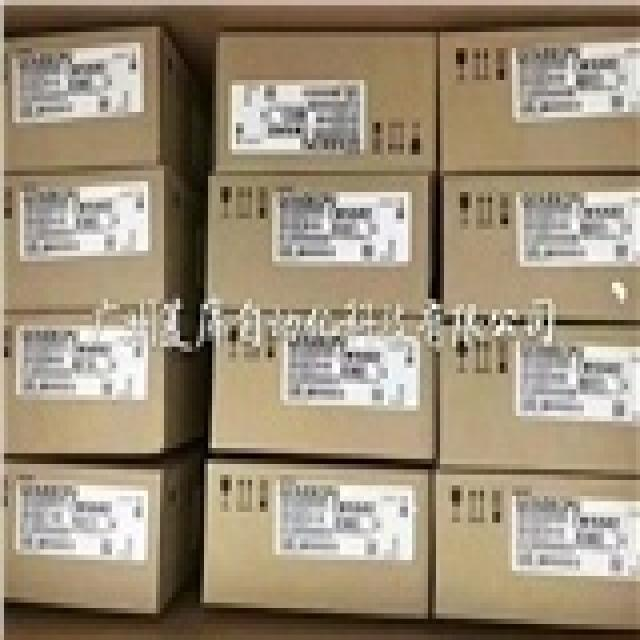box: (0, 432, 208, 613), (204, 459, 436, 619), (0, 27, 208, 197), (208, 309, 436, 464), (208, 27, 436, 176), (204, 176, 436, 315), (432, 475, 640, 629), (436, 320, 640, 475), (440, 171, 640, 325), (0, 309, 212, 453), (0, 165, 208, 309), (436, 27, 640, 171)
